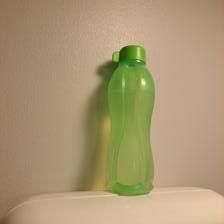bottle: (108, 42, 156, 195)
